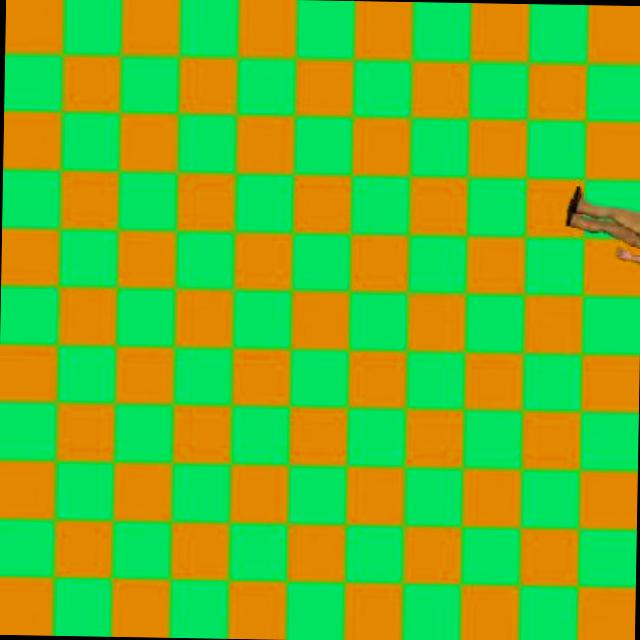Person: (561, 181, 640, 268)
